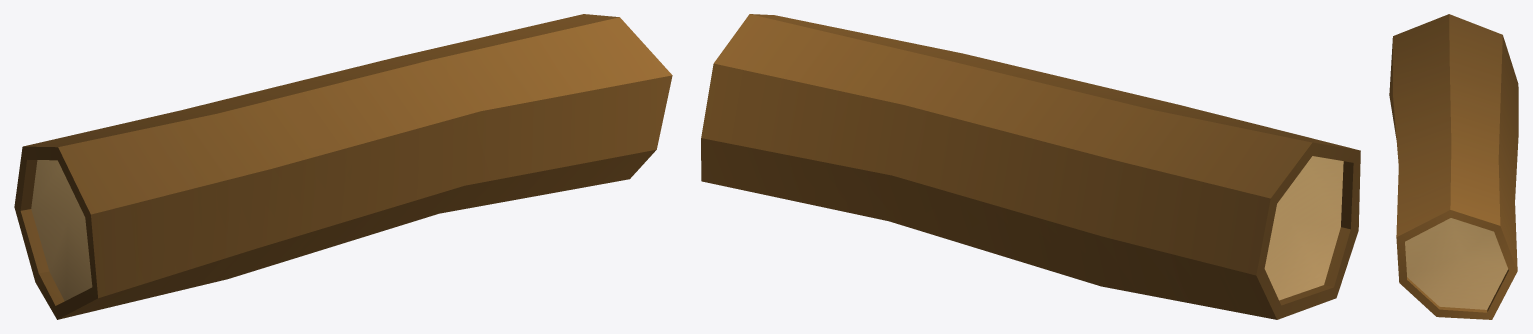
Rendered from Log.fbx.
The picture shows the model from 3 angles, left to right: view 1: azimuth 30°, elevation 25°; view 2: azimuth 150°, elevation 25°; view 3: azimuth 270°, elevation 25°; orthographic projection. The views are drawn at different scales.
Visible parts, largest first — view 1: Tree_Bark.010; view 2: Tree_Bark.010; view 3: Tree_Bark.010.
Boxes of the visible parts, x1,y1,x2,y2 form: Tree_Bark.010: [14, 14, 672, 319]; Tree_Bark.010: [701, 14, 1360, 319]; Tree_Bark.010: [1389, 14, 1518, 319].
Size of the model in its own units: 277 by 73.09 by 75.35.
